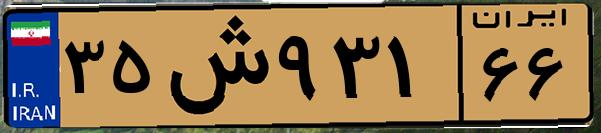1: (385, 28, 445, 110)
3: (330, 28, 385, 110), (57, 26, 110, 100)
5: (110, 28, 158, 98)
6: (475, 38, 525, 113), (525, 38, 570, 115)
9: (270, 28, 330, 110)
ش: (158, 12, 270, 120)
